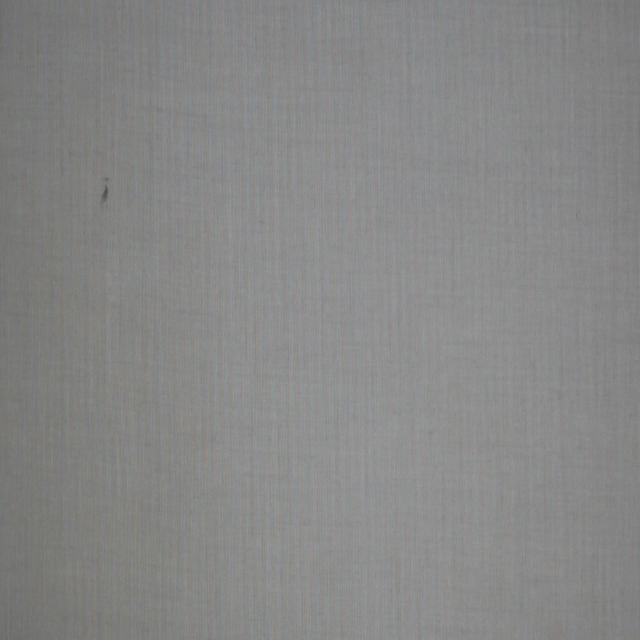dirty: (101, 173, 112, 206)
